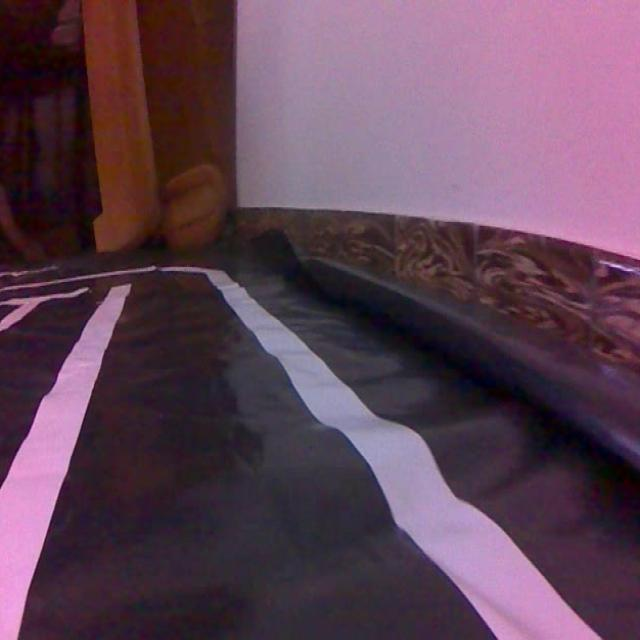LineaCarril: (163, 268, 602, 640), (0, 285, 130, 640)
